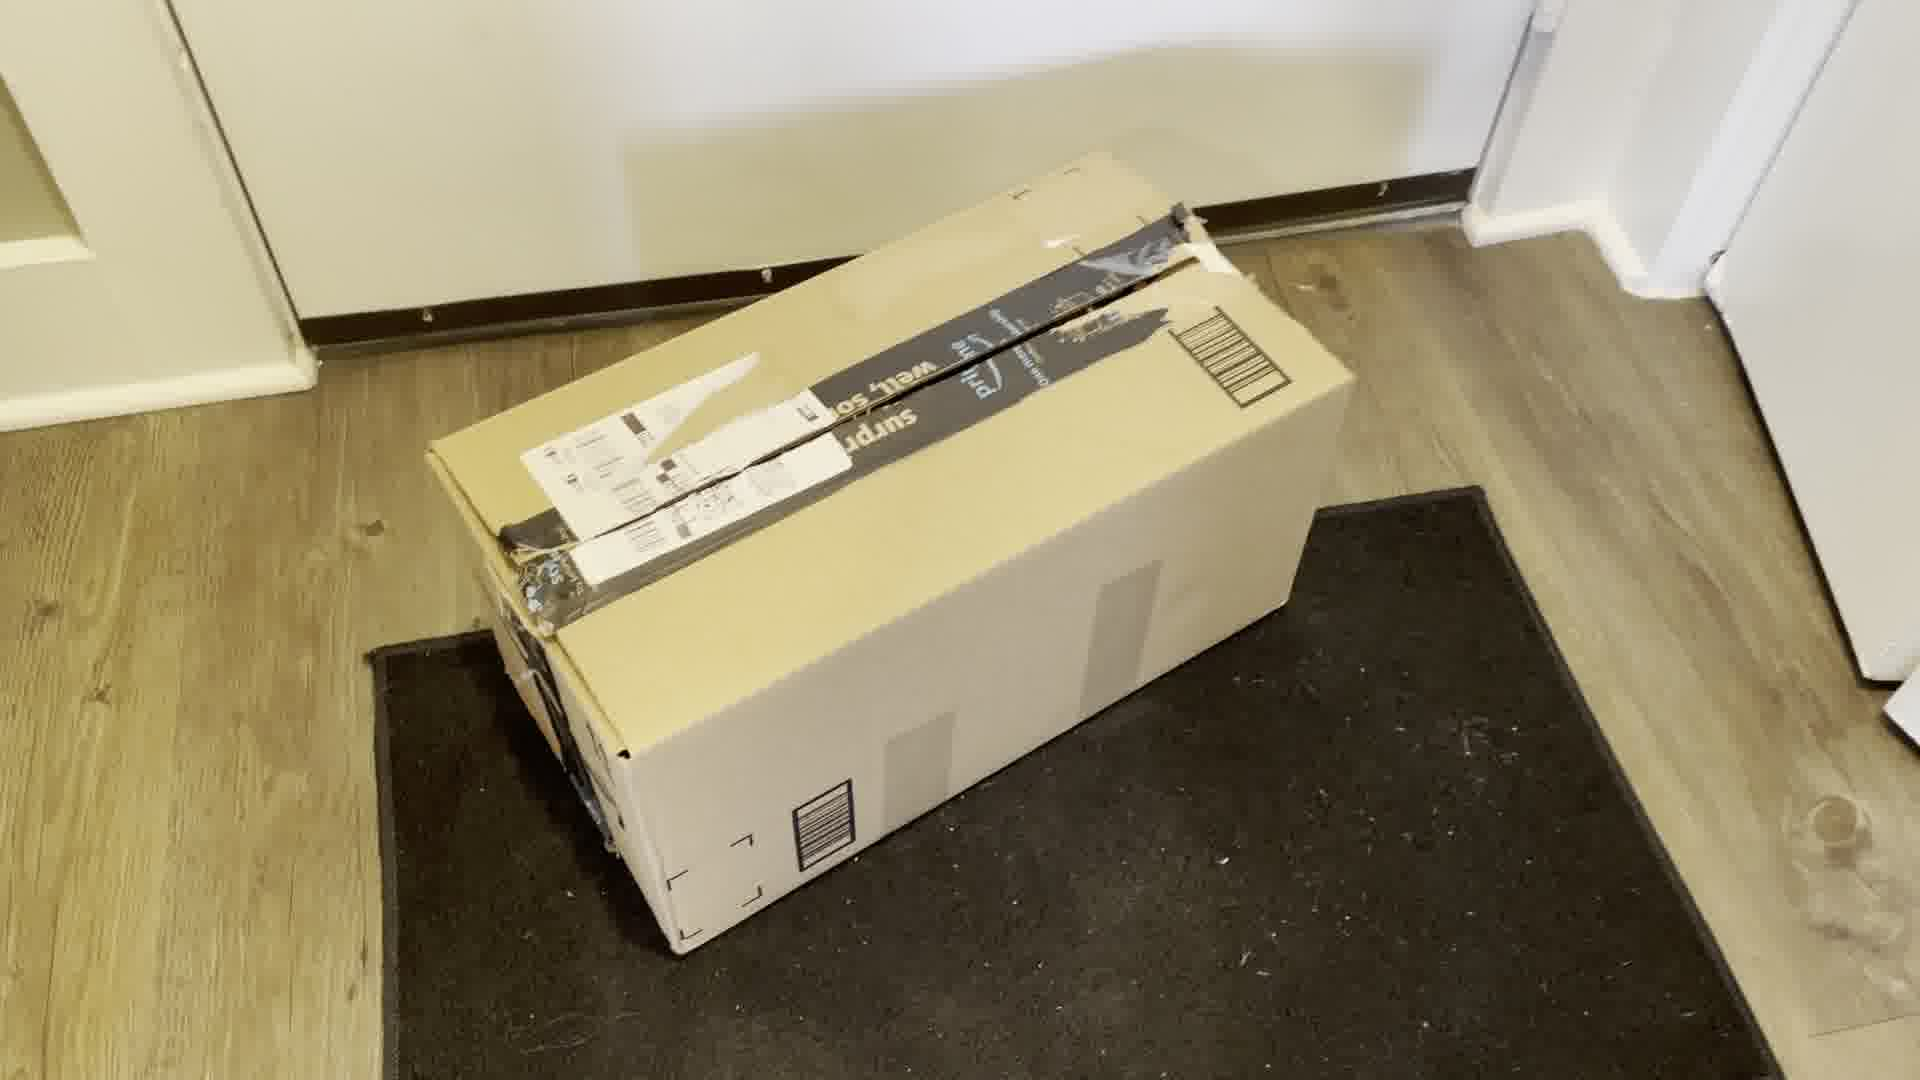box: (411, 171, 1369, 947)
